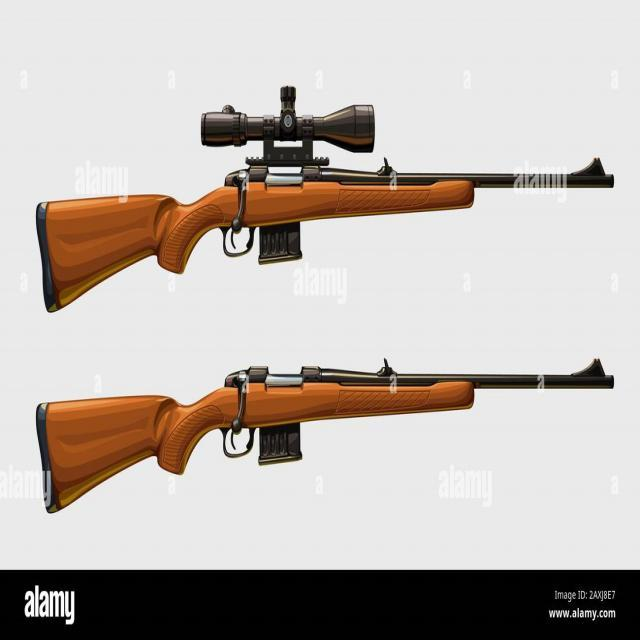scope: (197, 61, 385, 168)
sniper rifle: (32, 65, 624, 310), (24, 347, 630, 514)
